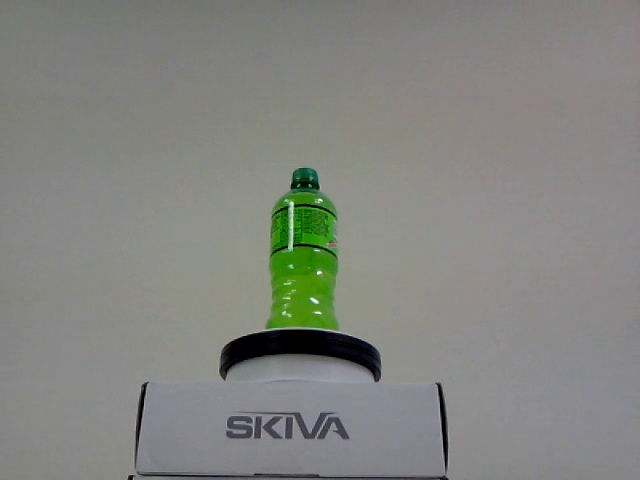botolplastik: (270, 168, 337, 330)
